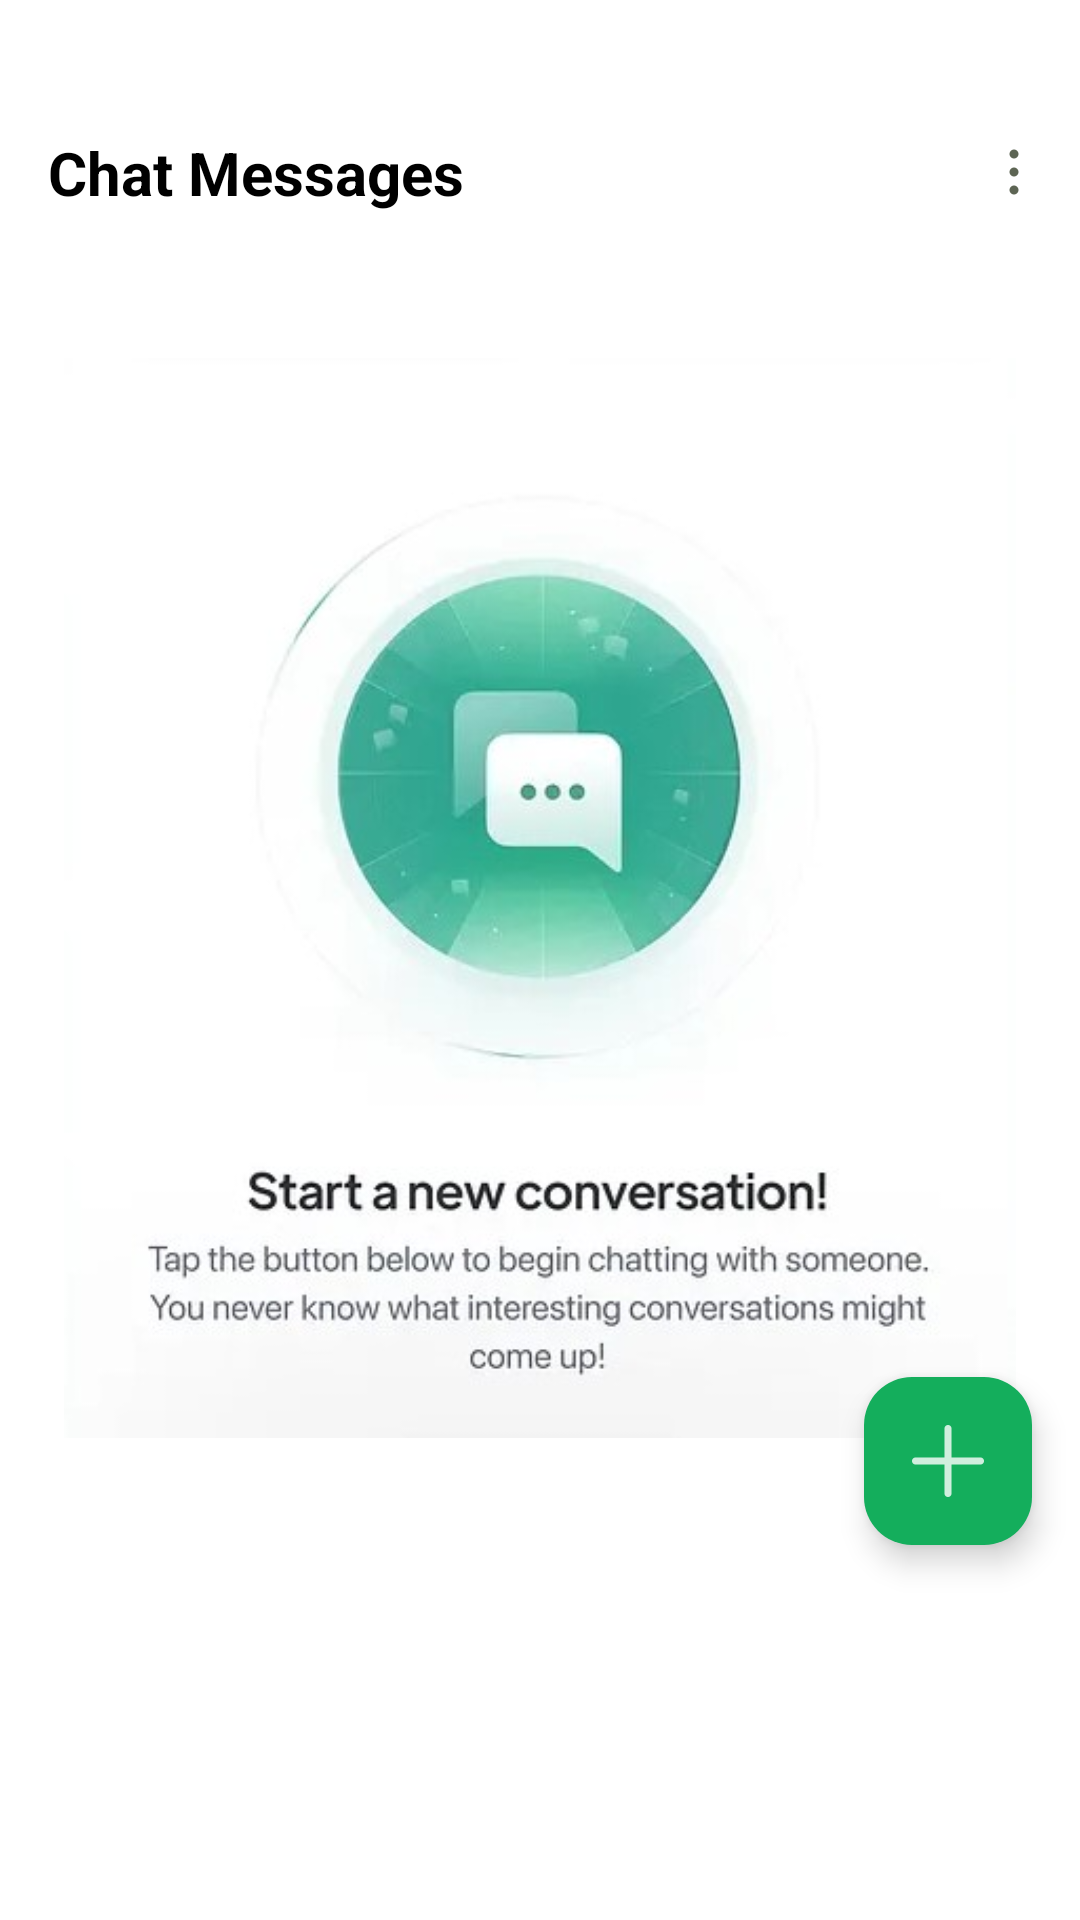

Named icons in this screenshot (1080*1920) and their centers, point (x, y):
New message: point (948, 1461)
